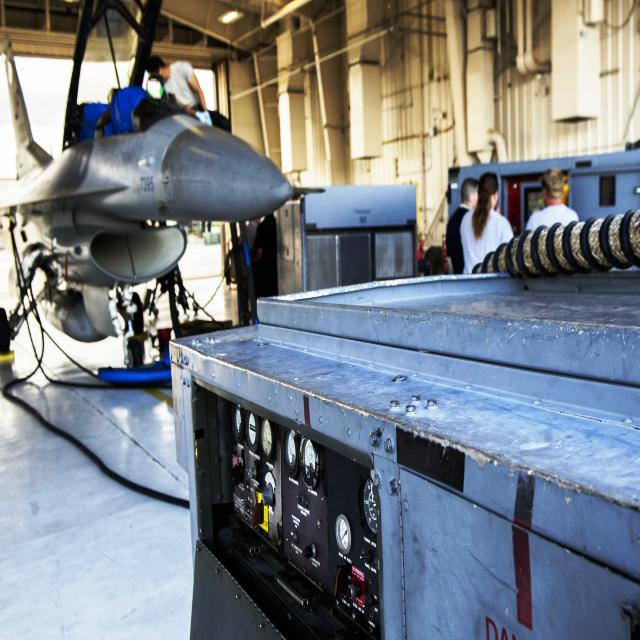Aircraft: (1, 1, 325, 385)
